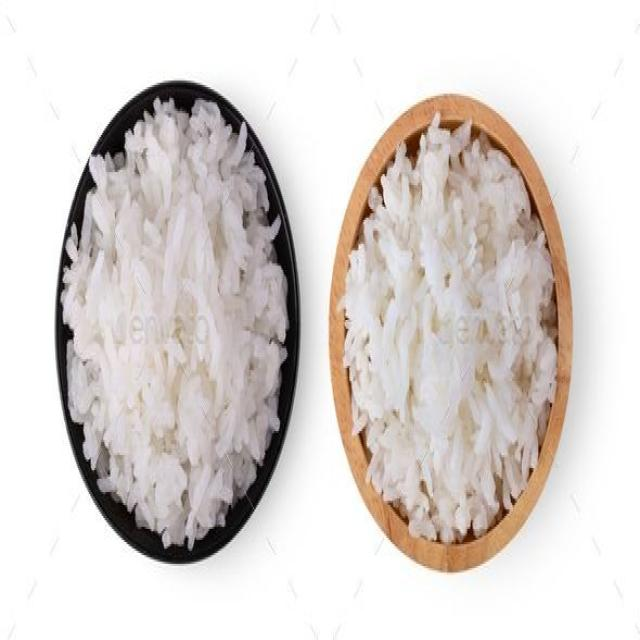Chicken -Chicken Inasal-: (354, 142, 547, 521), (93, 117, 270, 512)
